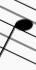note: (0, 0, 33, 63)
